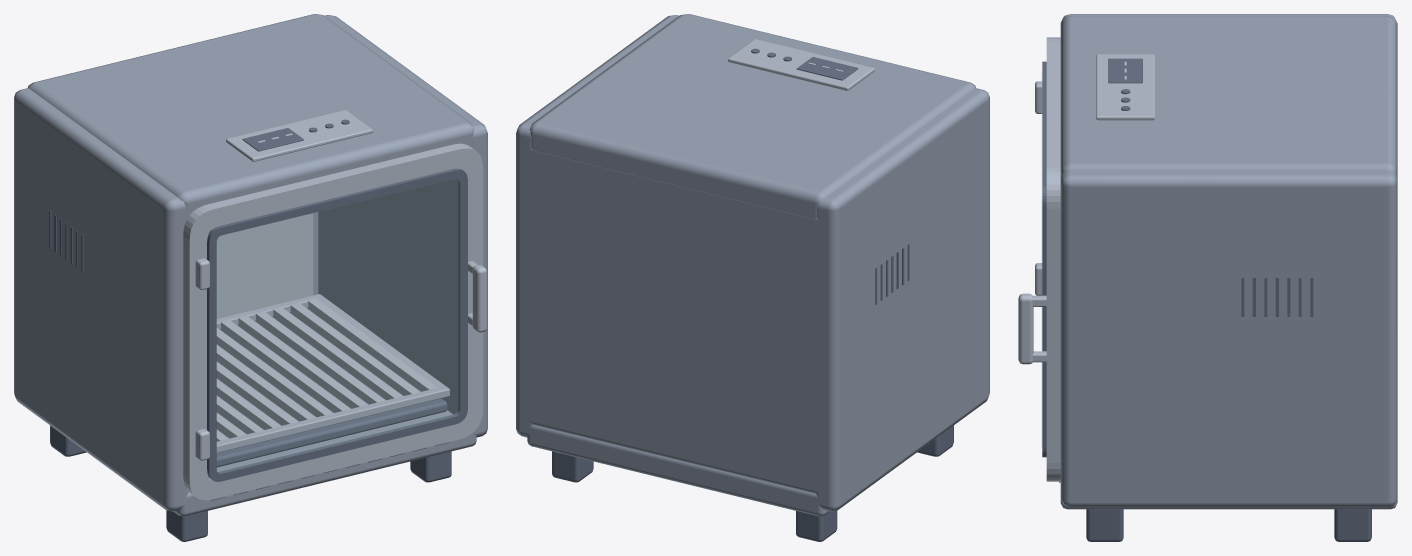
Rendered from 宠物烘干机-lite.glb.
The picture shows the model from 3 angles, left to right: view 1: azimuth 30°, elevation 25°; view 2: azimuth 150°, elevation 25°; view 3: azimuth 270°, elevation 25°; orthographic projection. The views are drawn at different scales.
Parts seen in each view (by area): view 1: pet-dryer-body, pet-dryer-glass, pet-dryer-panel, pet-dryer-inside, pet-dryer-dark; view 2: pet-dryer-body, pet-dryer-dark, pet-dryer-panel; view 3: pet-dryer-body, pet-dryer-panel, pet-dryer-dark.
Part boxes in pixels (box(x1,y1,x2,y2)): pet-dryer-body: box(14, 14, 487, 516); pet-dryer-glass: box(217, 179, 460, 473); pet-dryer-panel: box(183, 110, 486, 500); pet-dryer-inside: box(216, 133, 437, 441); pet-dryer-dark: box(49, 119, 467, 541); pet-dryer-body: box(516, 14, 989, 516); pet-dryer-dark: box(552, 48, 953, 541); pet-dryer-panel: box(728, 39, 874, 90); pet-dryer-body: box(1060, 14, 1397, 509); pet-dryer-panel: box(1018, 37, 1154, 481); pet-dryer-dark: box(1042, 58, 1371, 541).
Bounding box in the file's own units: 0.5225 × 0.562 × 0.495.
